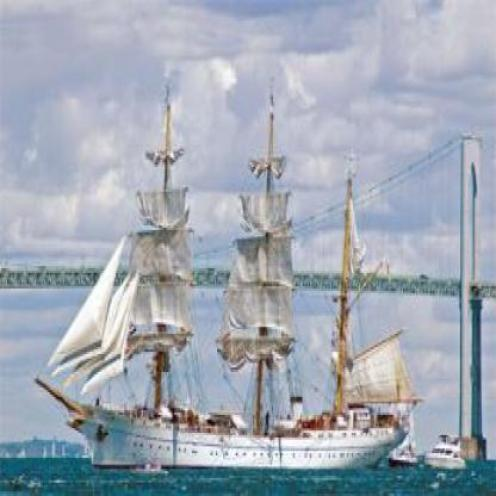Ship: (49, 101, 413, 483), (423, 429, 472, 478)
